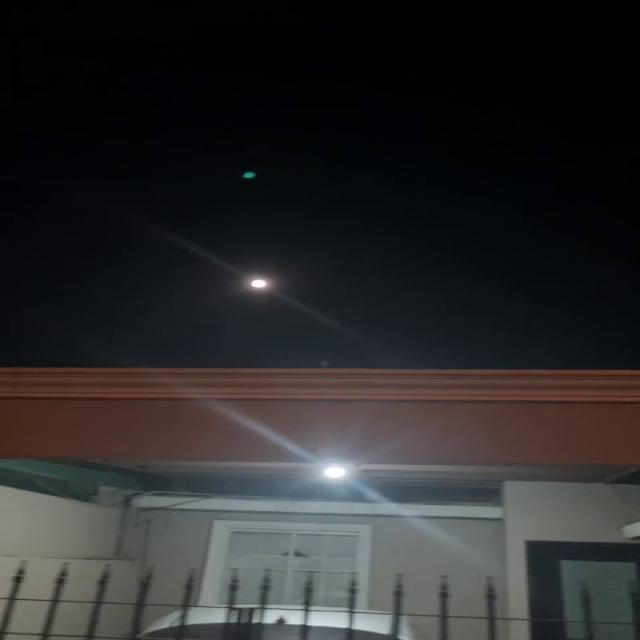moon: (248, 265, 274, 296)
